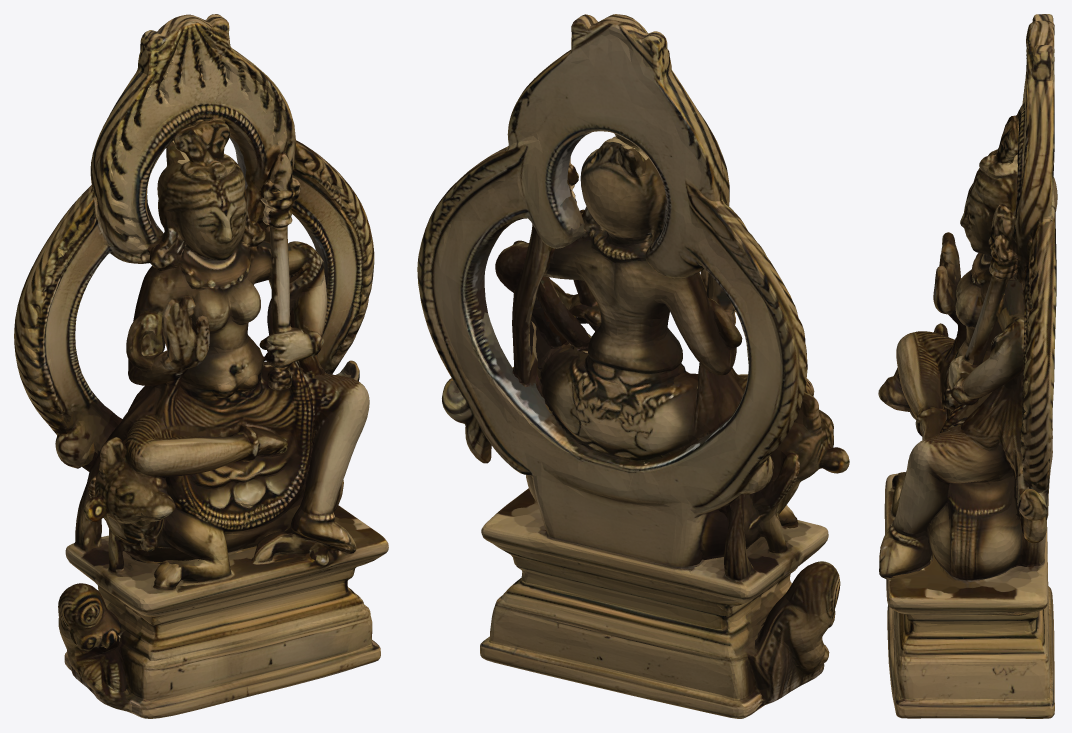
3 views of the same model, side by side, from view 1: azimuth 30°, elevation 25°; view 2: azimuth 150°, elevation 25°; view 3: azimuth 270°, elevation 25° (orthographic). The views are drawn at different scales.
Parts seen in each view (by area): view 1: textured_mesh; view 2: textured_mesh; view 3: textured_mesh.
Part boxes in pixels (x1,y1,x2,y2): textured_mesh: [14, 14, 388, 718]; textured_mesh: [417, 14, 849, 718]; textured_mesh: [878, 14, 1057, 718].
Size of the model in its own units: 1.19 by 1.99 by 0.5087.
1 material, 1 textured.
